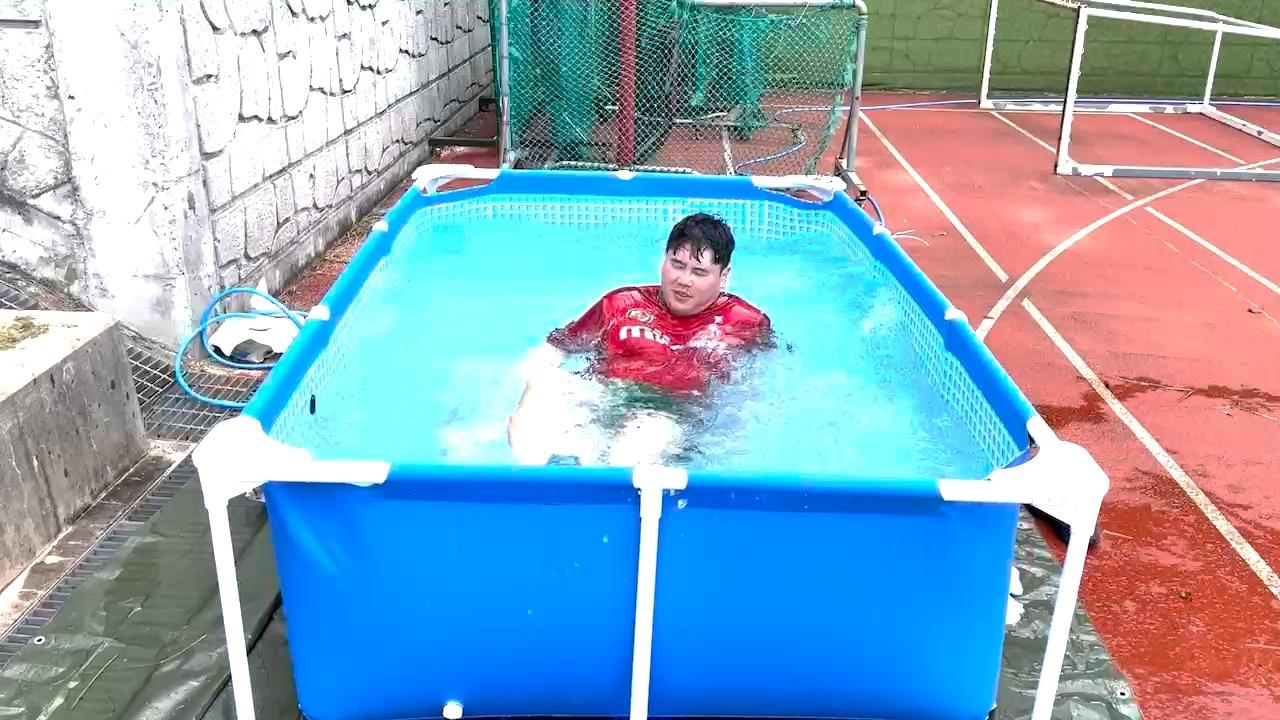Drowning: (462, 213, 786, 462)
